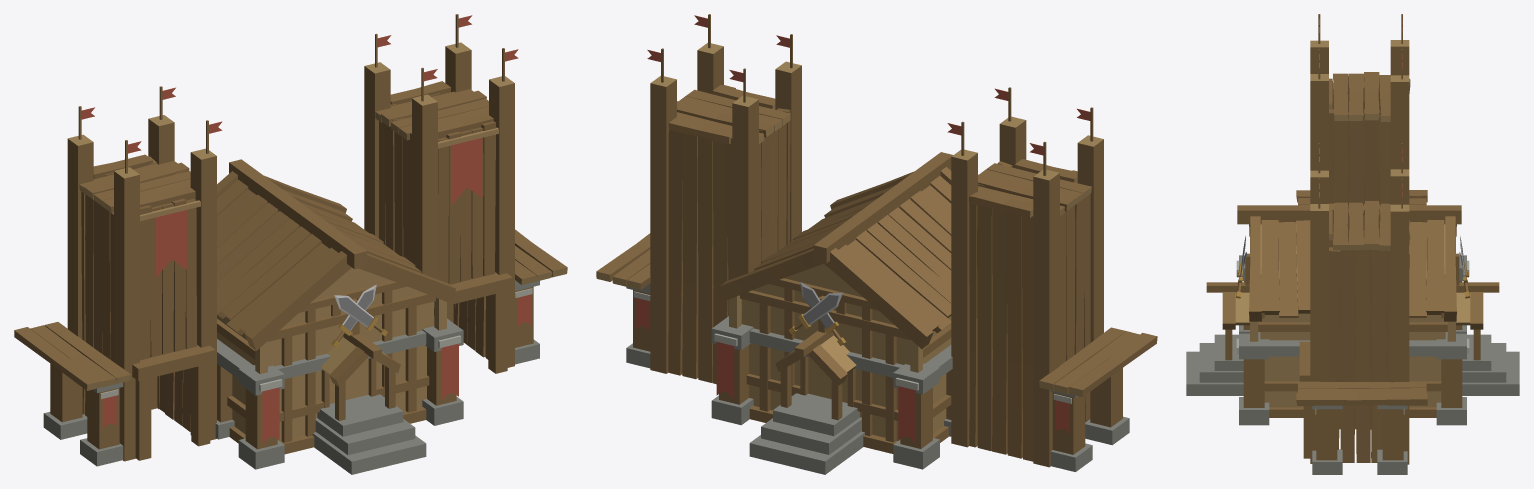
The model's file is Barracks_FirstAge_Level3.gltf.
3 views of the same model, side by side, from view 1: azimuth 30°, elevation 25°; view 2: azimuth 150°, elevation 25°; view 3: azimuth 270°, elevation 25° (orthographic). The views are drawn at different scales.
Visible parts, largest first — view 1: Barracks_FirstAge_Level3; view 2: Barracks_FirstAge_Level3; view 3: Barracks_FirstAge_Level3.
Boxes of the visible parts, box(x1,y1,x2,y2) form: Barracks_FirstAge_Level3: box(14, 14, 567, 474); Barracks_FirstAge_Level3: box(596, 14, 1157, 474); Barracks_FirstAge_Level3: box(1186, 14, 1519, 474).
Bounding box in the file's own units: 2.33 × 1.47 × 1.57.
